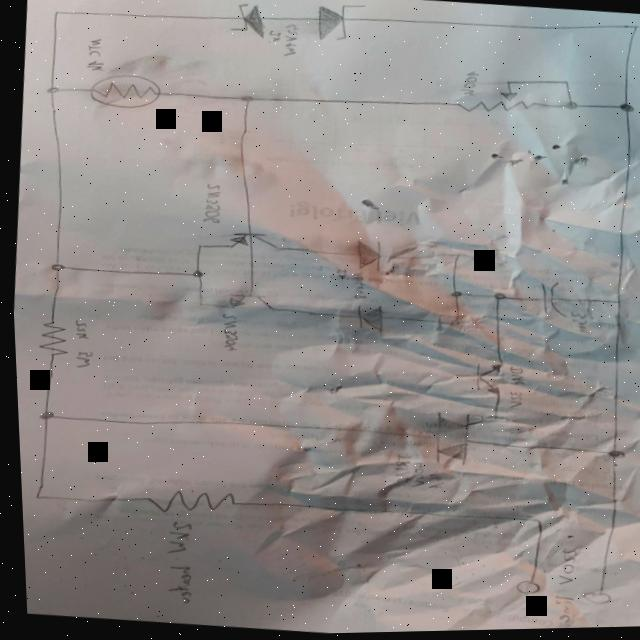capacitor: (532, 280, 566, 319)
diode: (313, 0, 366, 45), (224, 0, 268, 40), (350, 238, 381, 274), (349, 302, 382, 334)
junction: (613, 102, 634, 116), (559, 99, 580, 113), (32, 407, 51, 421), (475, 414, 496, 426), (44, 259, 63, 271), (235, 93, 254, 104), (42, 83, 60, 94), (602, 450, 619, 461), (489, 292, 504, 302), (25, 490, 40, 500), (187, 268, 202, 277), (445, 290, 459, 298), (558, 79, 570, 88), (49, 6, 61, 15), (628, 24, 640, 32), (446, 319, 458, 327), (609, 299, 618, 307), (502, 79, 512, 86), (528, 518, 538, 525), (450, 252, 460, 259), (193, 241, 201, 248), (193, 300, 201, 307)
resistor: (136, 483, 236, 520), (84, 70, 161, 111), (451, 87, 537, 120), (31, 317, 66, 358)
terminal: (573, 588, 608, 608), (505, 578, 535, 597)
text: (158, 562, 189, 606), (156, 517, 190, 557), (547, 547, 574, 588), (197, 181, 222, 224), (214, 311, 238, 351), (544, 595, 570, 626), (344, 270, 367, 300), (386, 454, 408, 485), (458, 70, 478, 99), (564, 311, 587, 335), (403, 461, 421, 489), (83, 35, 104, 57), (69, 346, 90, 368), (68, 318, 86, 341), (421, 470, 440, 491), (281, 22, 300, 42), (503, 367, 521, 388), (501, 391, 520, 410), (82, 57, 105, 72), (282, 41, 297, 58), (266, 29, 282, 44), (331, 268, 344, 280)
transistor: (218, 287, 275, 313), (224, 227, 279, 252)
